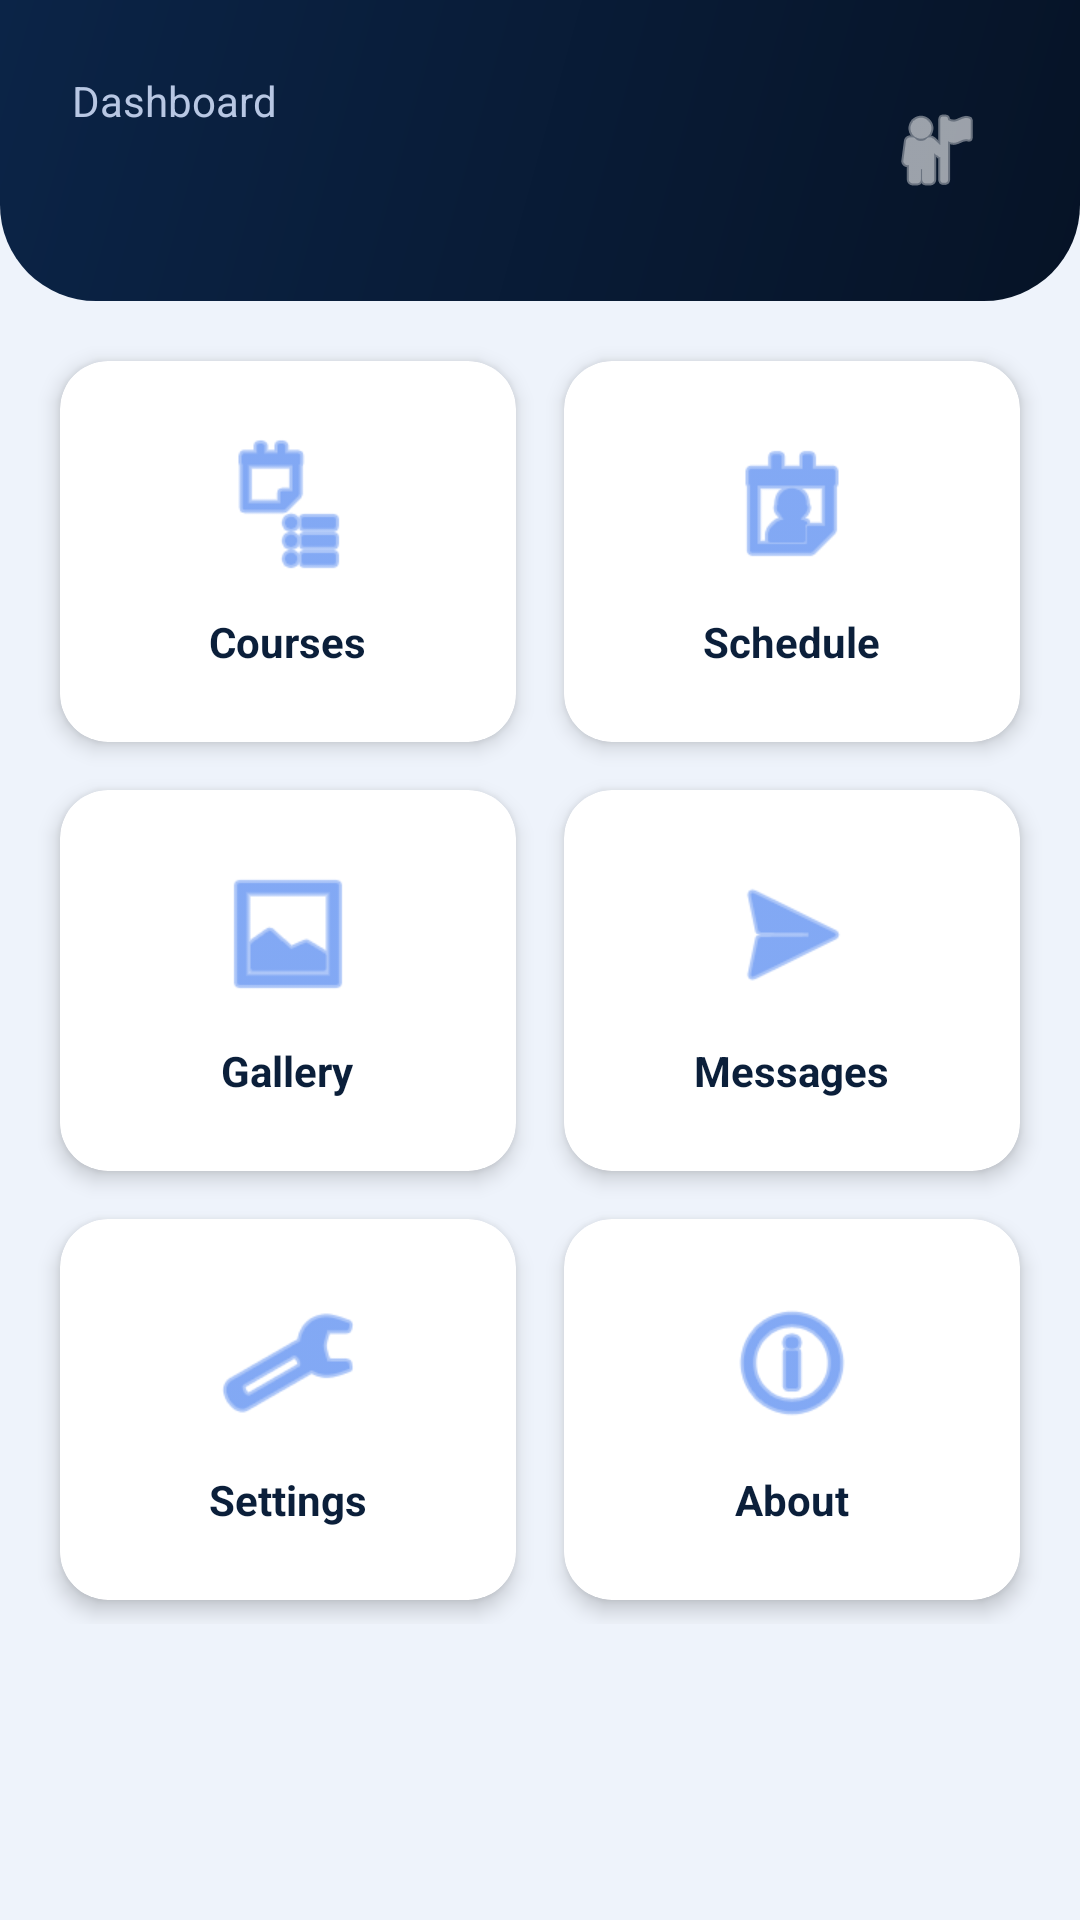

Icon click points for this 1080 × 1920 phone screenshot, format (x=x, y=y):
My Profile: (x=937, y=150)
